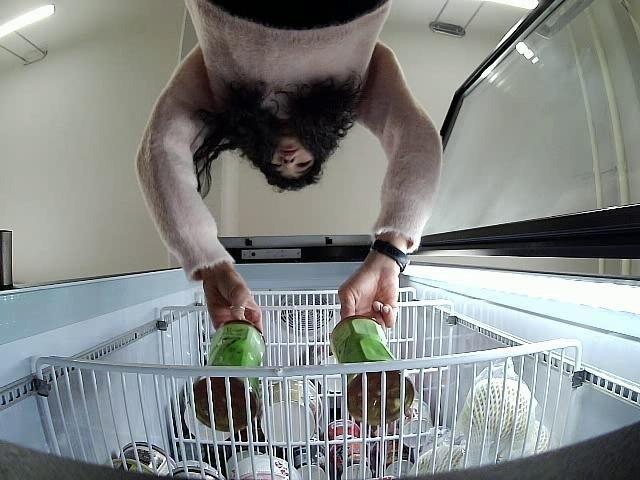19_17cha: (329, 314, 414, 427), (194, 321, 266, 430)
